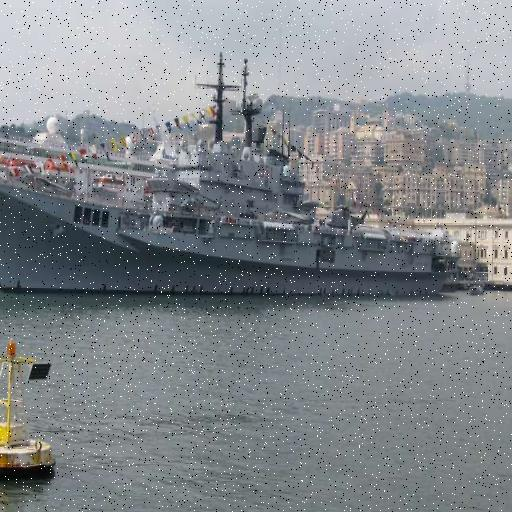Portanaves: (1, 53, 451, 299)
